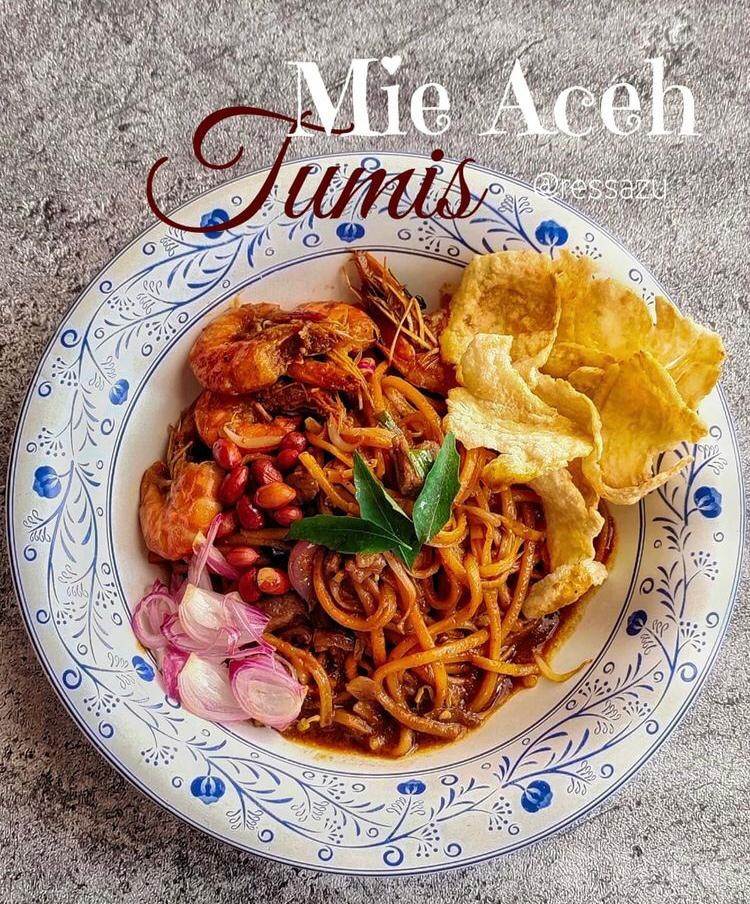mie_aceh: (133, 261, 699, 758)
